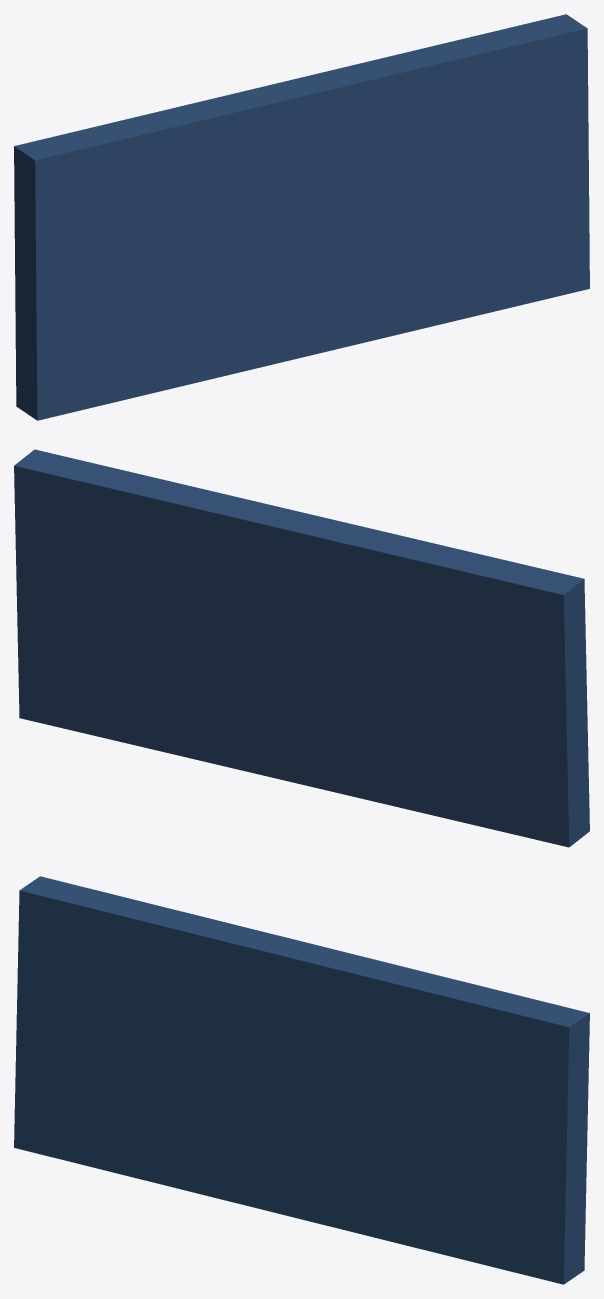
The model's file is TVWall2.fbx.
3 views of the same model, one above another, from view 1: azimuth 30°, elevation 25°; view 2: azimuth 150°, elevation 25°; view 3: azimuth 330°, elevation 25° (orthographic).
Parts seen in each view (by area): view 1: TVWall-col; view 2: TVWall-col; view 3: TVWall-col.
Part boxes in pixels (<box>): TVWall-col: <box>14,14,589,420</box>; TVWall-col: <box>14,449,589,847</box>; TVWall-col: <box>14,876,589,1284</box>.
Bounding box in the file's own units: 1095 × 494 × 88.68.
